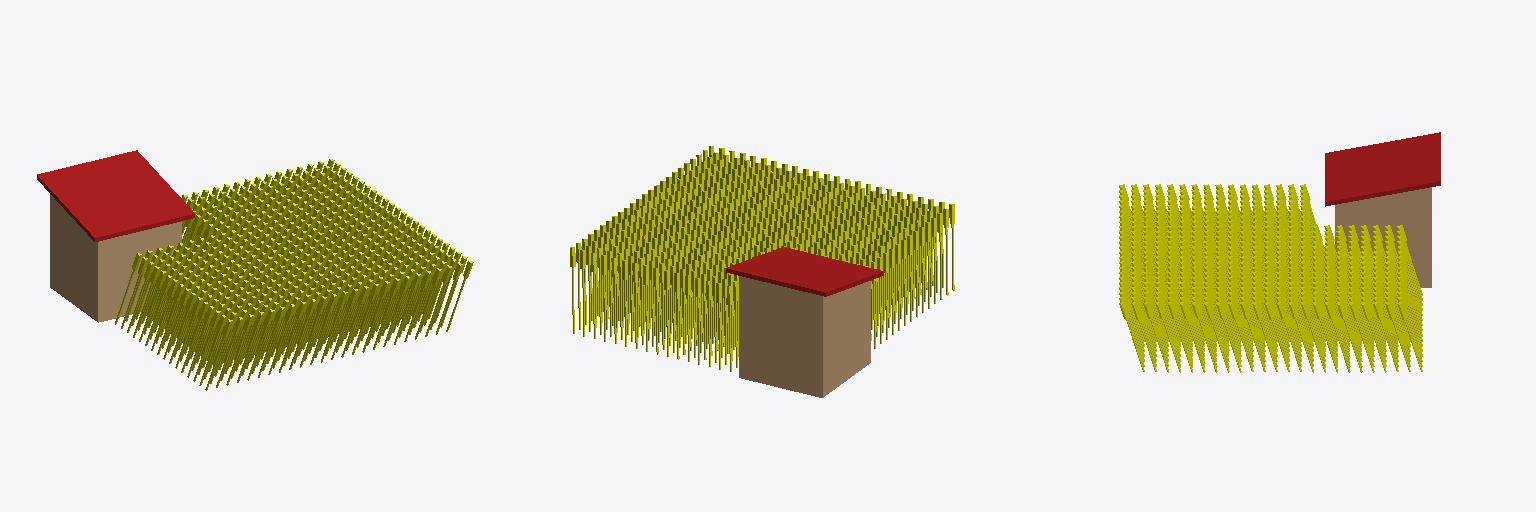
Rendered from BFarmWheat.obj.
3 renders of one model, left to right at view 1: azimuth 30°, elevation 25°; view 2: azimuth 150°, elevation 25°; view 3: azimuth 270°, elevation 25°, orthographic.
Parts seen in each view (by area): view 1: BFarmWheat; view 2: BFarmWheat; view 3: BFarmWheat.
Boxes of the visible parts, box(x1,y1,x2,y2) form: BFarmWheat: box(37, 150, 473, 390); BFarmWheat: box(570, 146, 954, 397); BFarmWheat: box(1119, 132, 1440, 372).
Size of the model in its own units: 6.62 by 2.57 by 6.67.